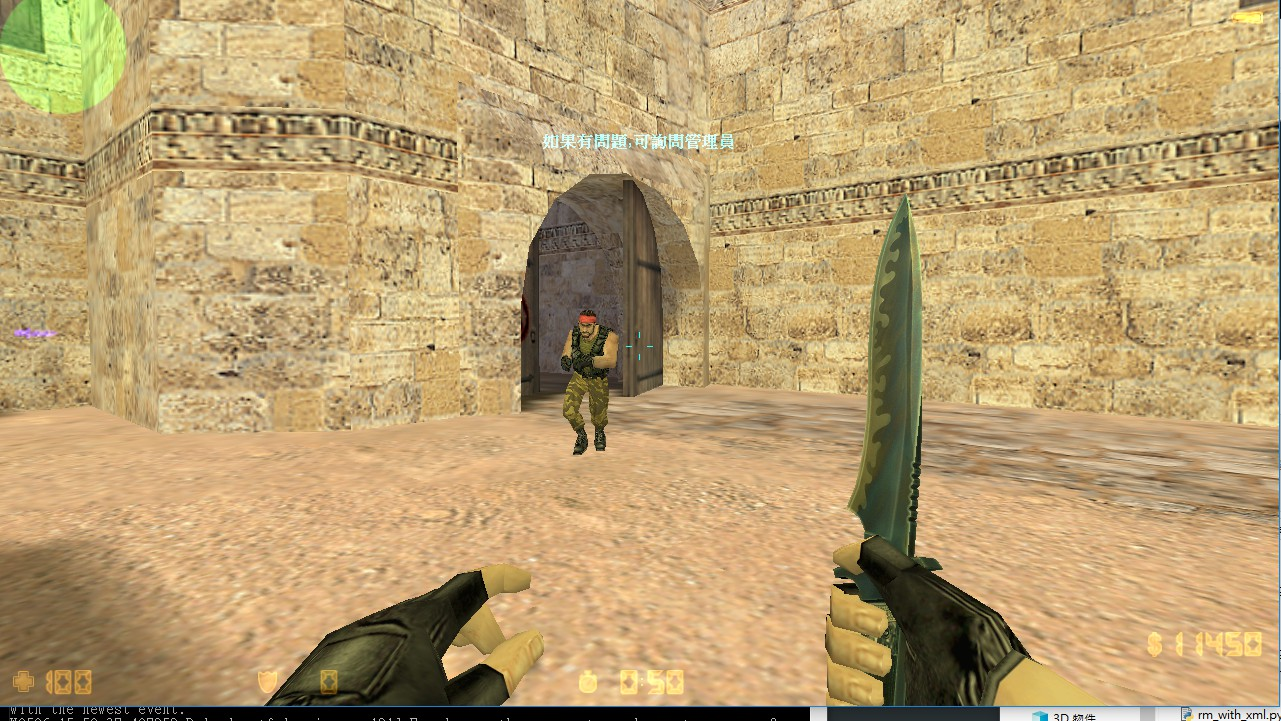person: (559, 308, 619, 459)
